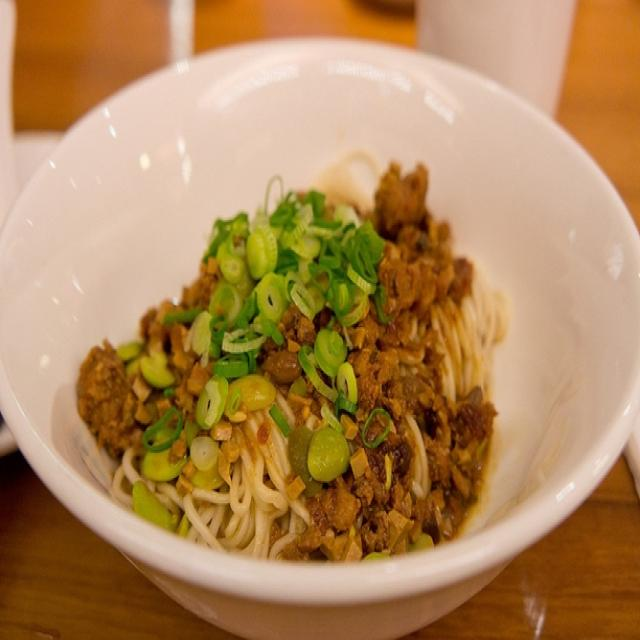面条主食: (18, 47, 636, 618)
